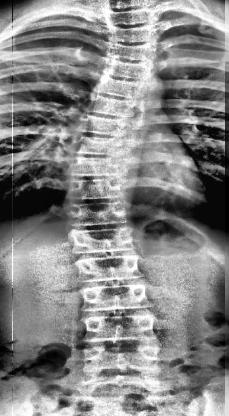Vertebrae: (78, 314, 158, 346), (80, 344, 162, 375), (70, 252, 148, 284), (77, 282, 152, 314), (66, 226, 138, 256), (82, 373, 162, 398), (64, 203, 132, 232), (65, 178, 131, 206), (64, 156, 132, 182), (89, 72, 149, 100), (72, 134, 132, 162), (75, 112, 133, 140), (84, 90, 138, 118), (98, 59, 152, 81), (106, 6, 158, 28), (104, 42, 156, 64), (105, 25, 159, 43)
